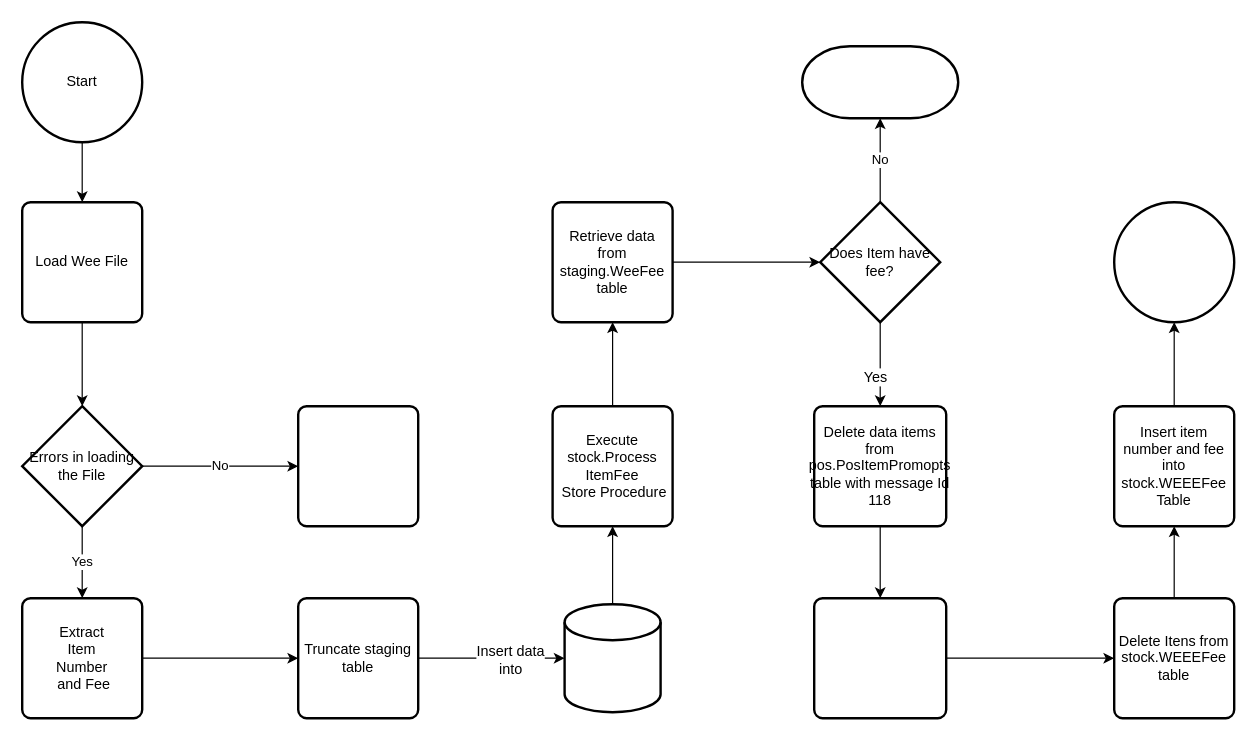
The diagram is 1255 pixels wide and 739 high, and some of its shapes have lost their labels. Each missing label, with the centre of its shape:
"End" goes at point 1173,261.
"Ignore Items" goes at point 879,81.
"Insert items into pos.PosItemPrompts table" goes at point 879,657.
"Log Error" goes at point 357,465.
"staging. WeeFee table" goes at point 612,657.
